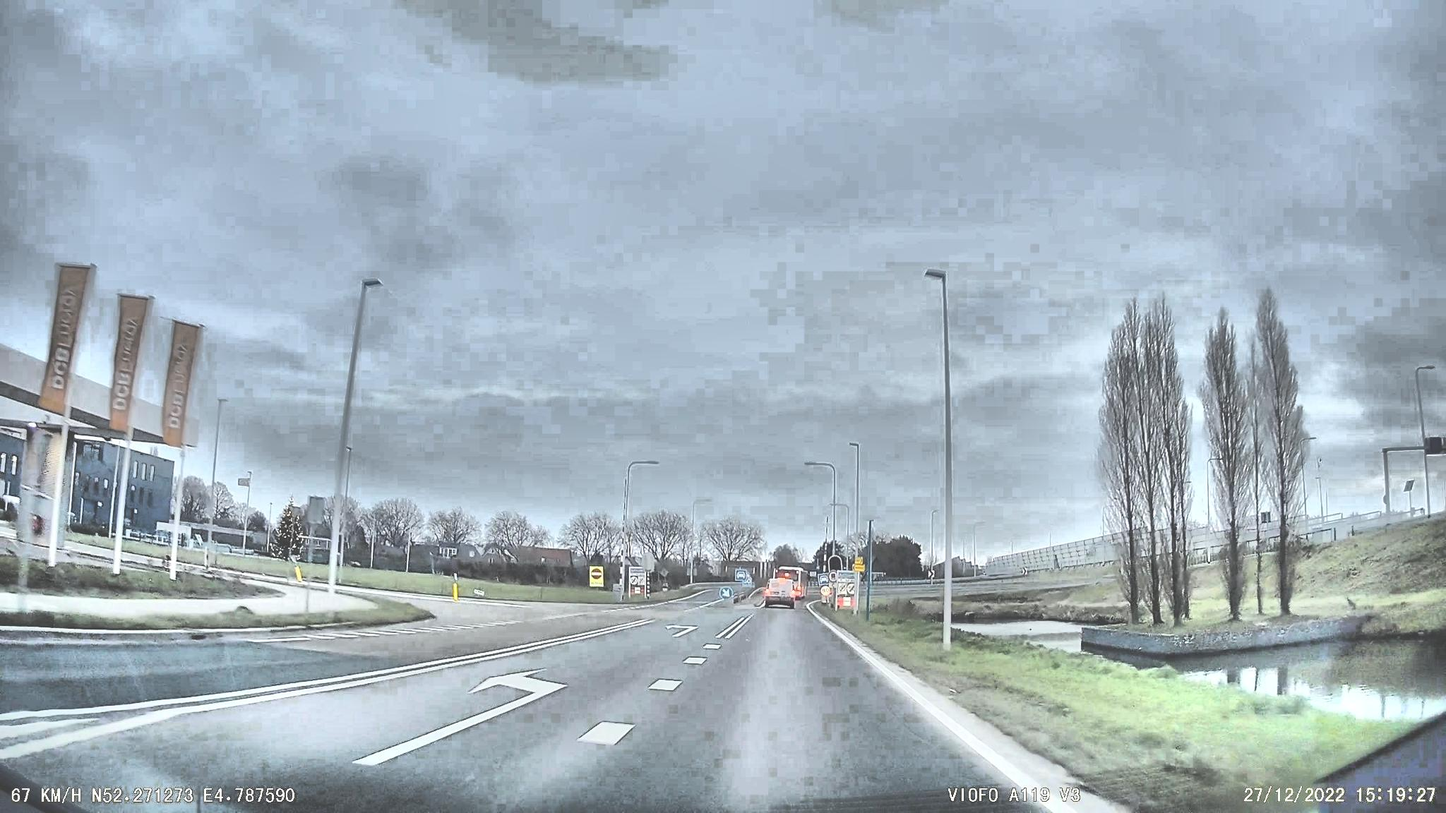Roads: (0, 595, 1151, 813)
